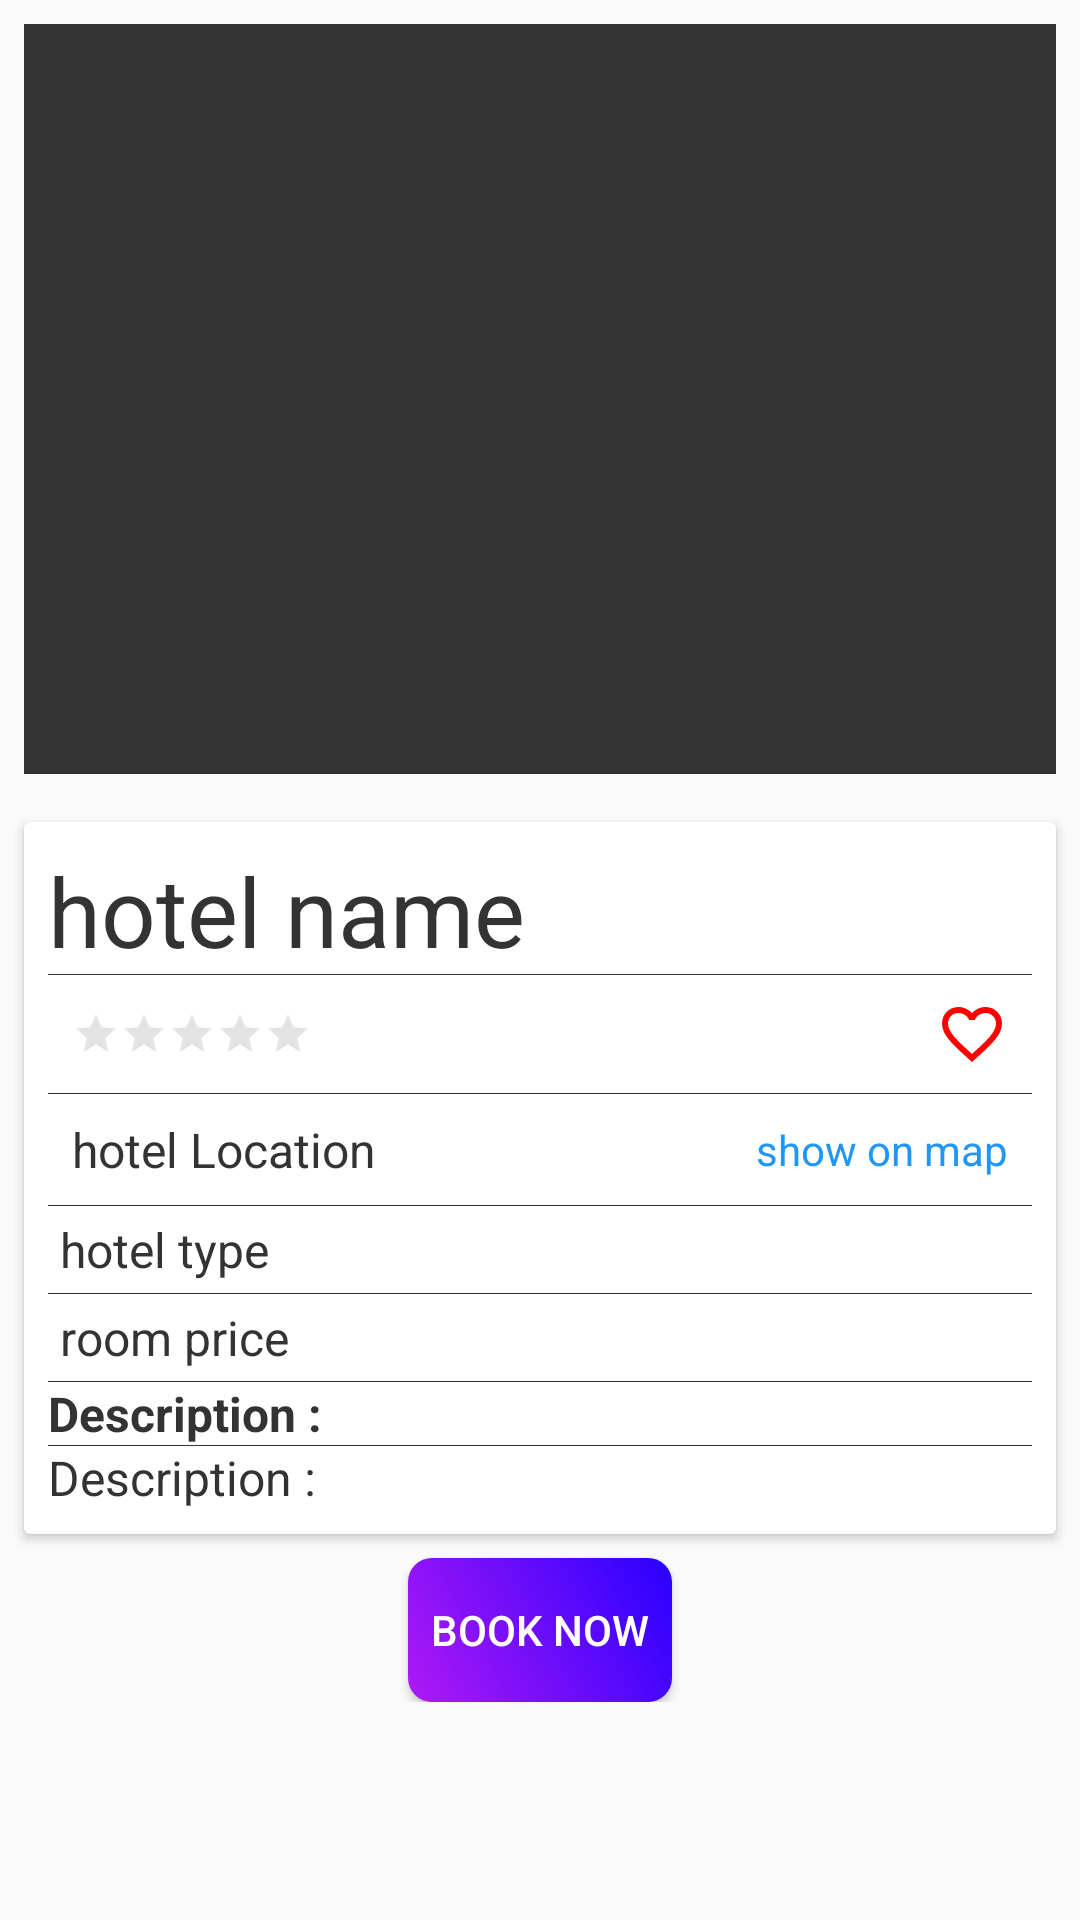

Icons on this 1080 × 1920 Android screen, each with its box as [x1, y1, x2, y2]:
heart: [942, 1007, 1002, 1062]
